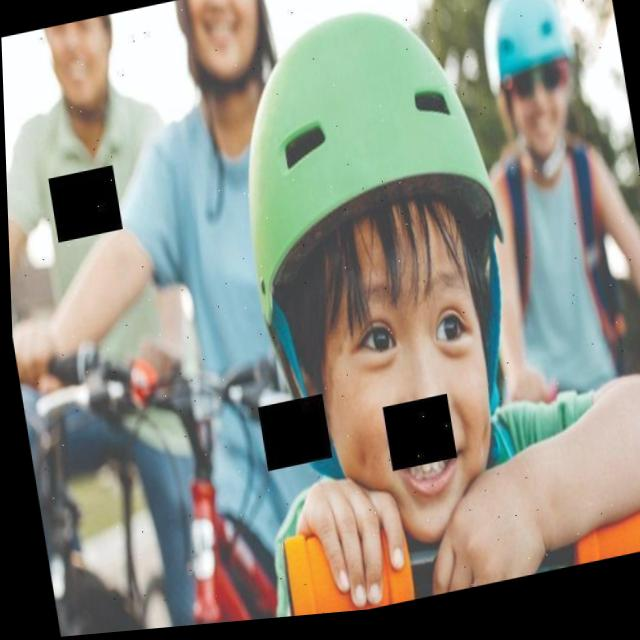helmet: (220, 0, 541, 579), (472, 0, 598, 206)
